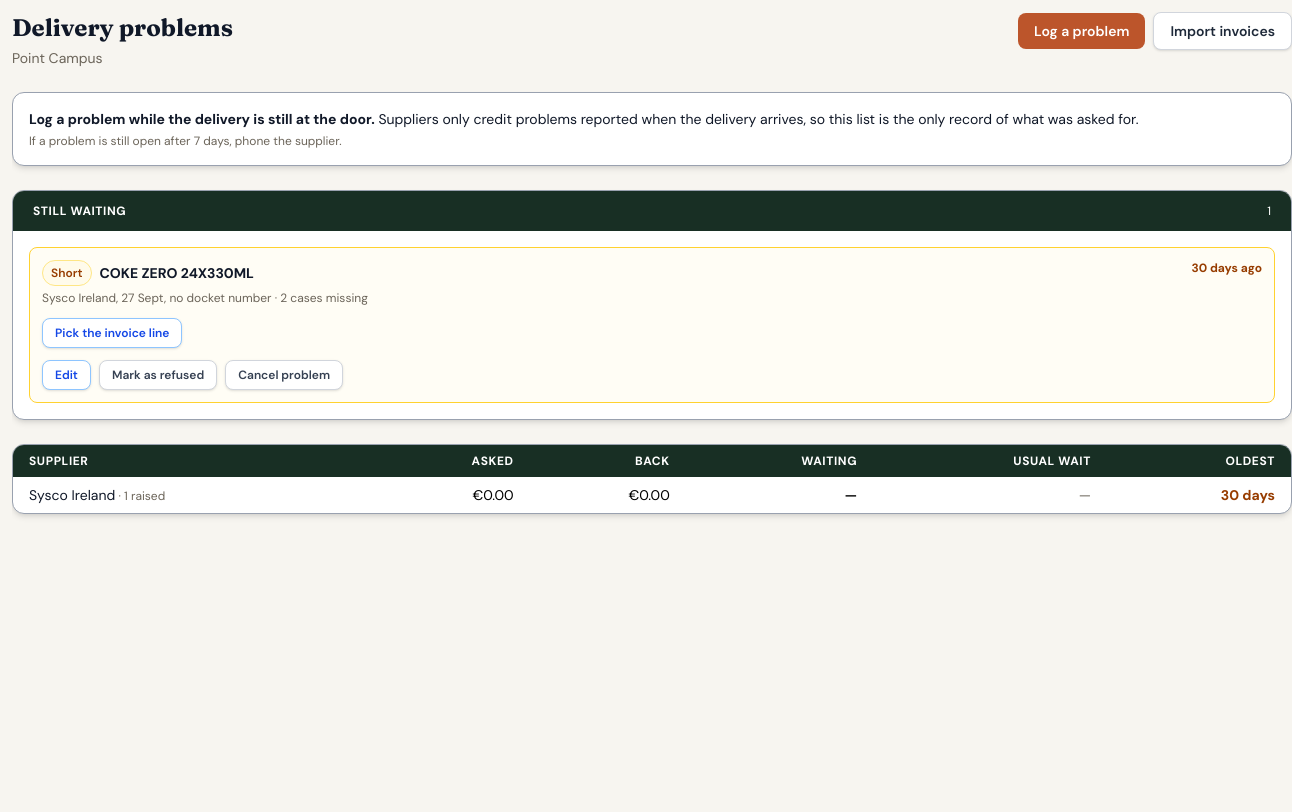
Test: asking before a claim goes on a line › clears what was wrong with a line once the list is closed
The width and height of the screenshot is (1292, 812).
Step 1. Click the button "Pick the invoice line" → (112, 333), box x1=42 y1=318 x2=182 y2=348
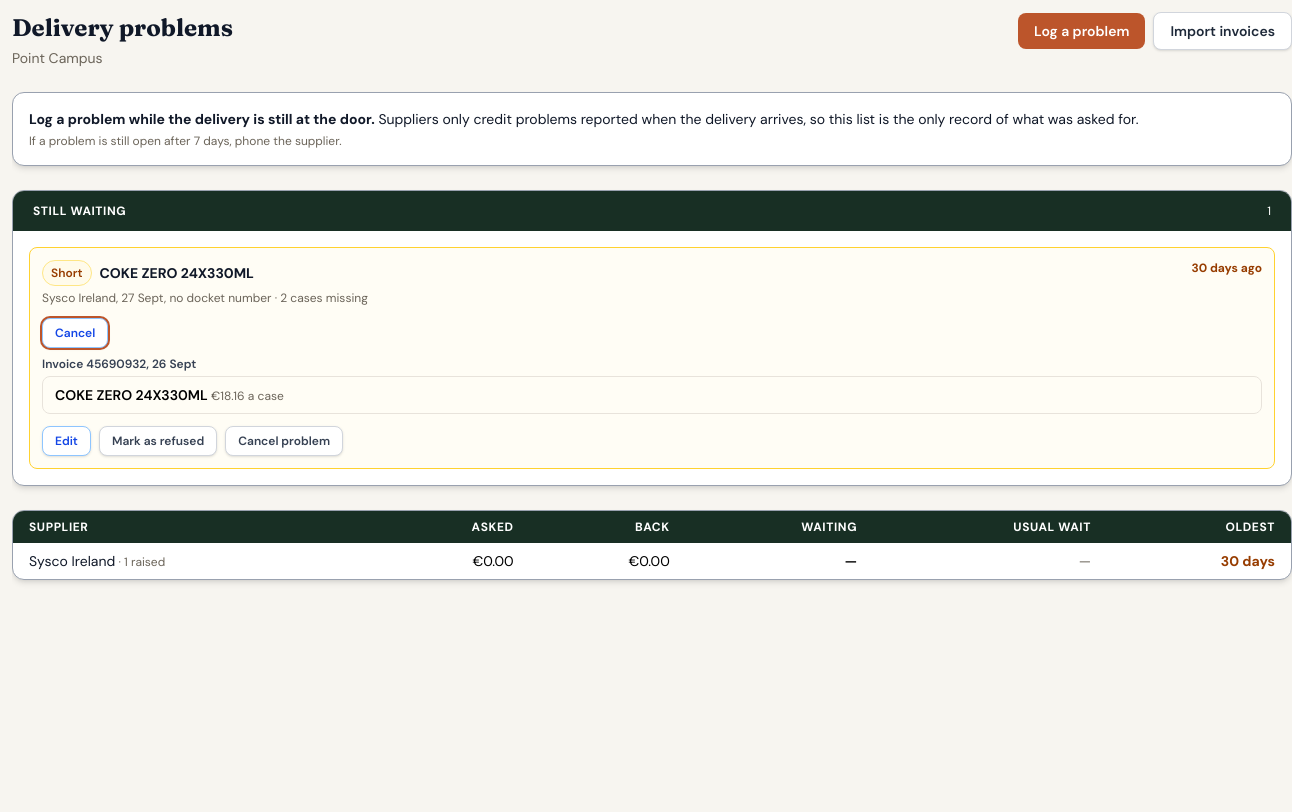
Step 2. Click the button "COKE ZERO 24X330ML €18.16 a case" → (131, 395), box x1=42 y1=376 x2=1262 y2=414
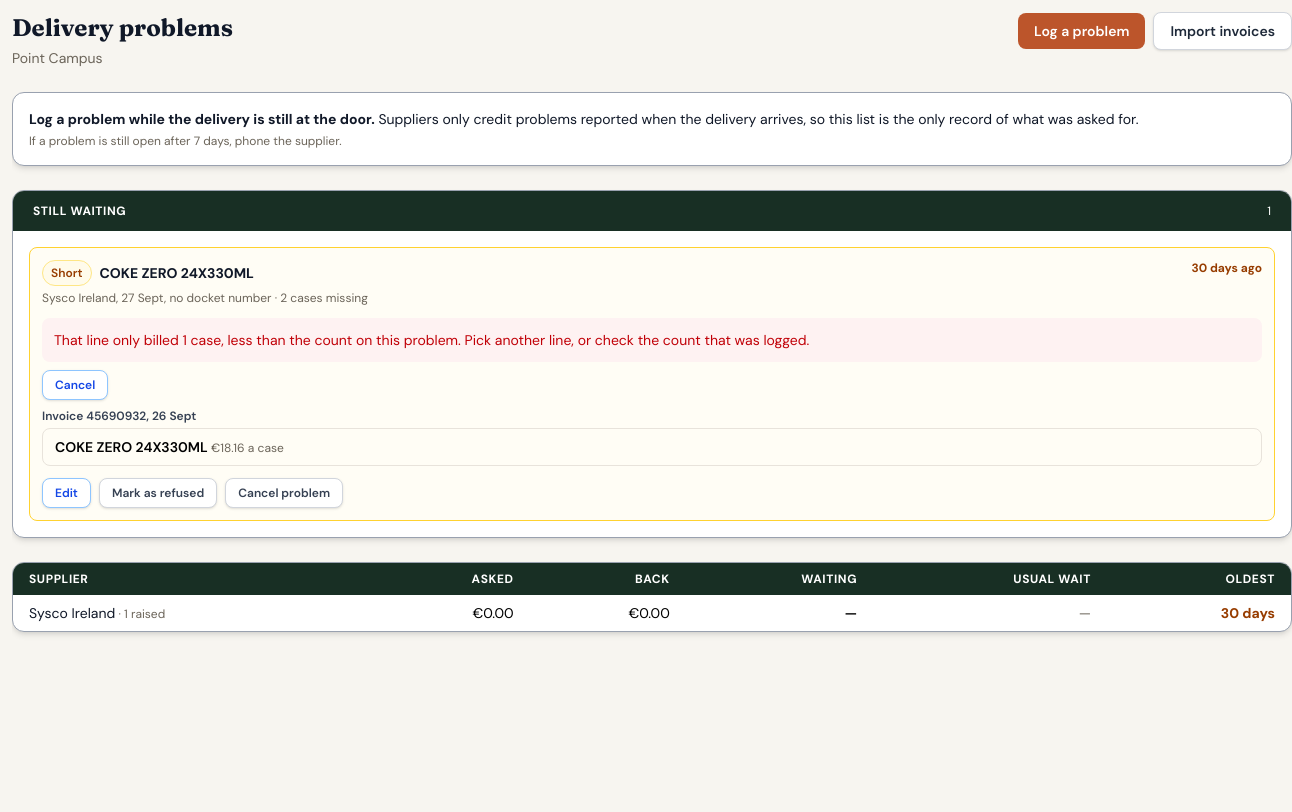
Expected: the text "That line only billed 1 case" is shown, x1=54 y1=331 x2=809 y2=349
Step 3. Click the button "Cancel" → (75, 385), box x1=42 y1=370 x2=108 y2=400
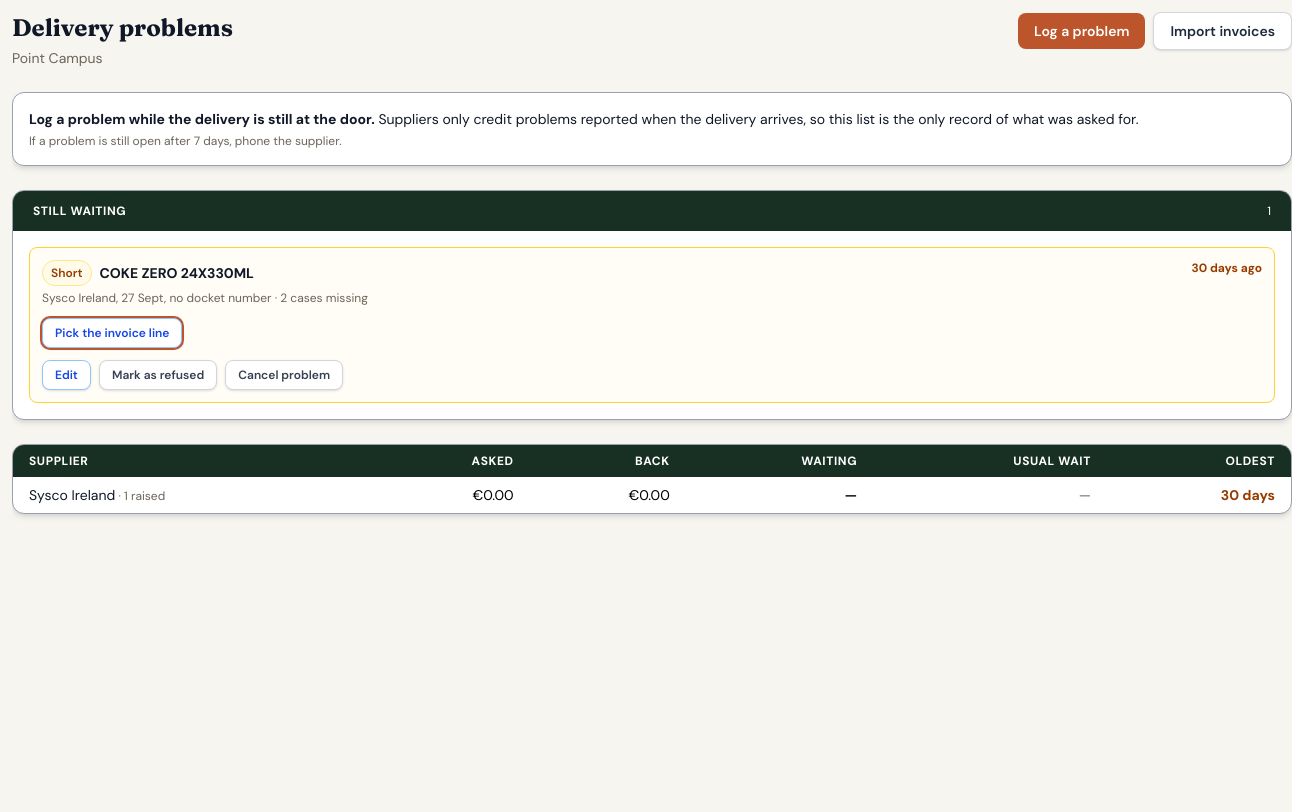
Expected: the text "That line only billed 1 case" is gone
